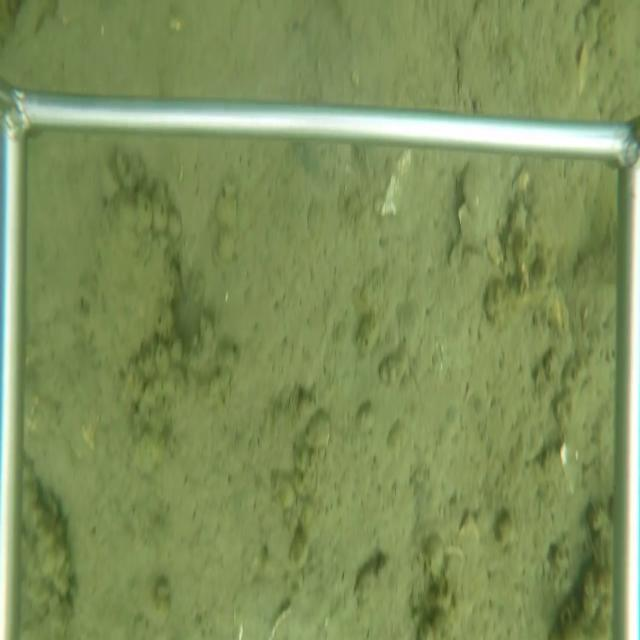Oyster-Indeterminate: (446, 162, 518, 269)
